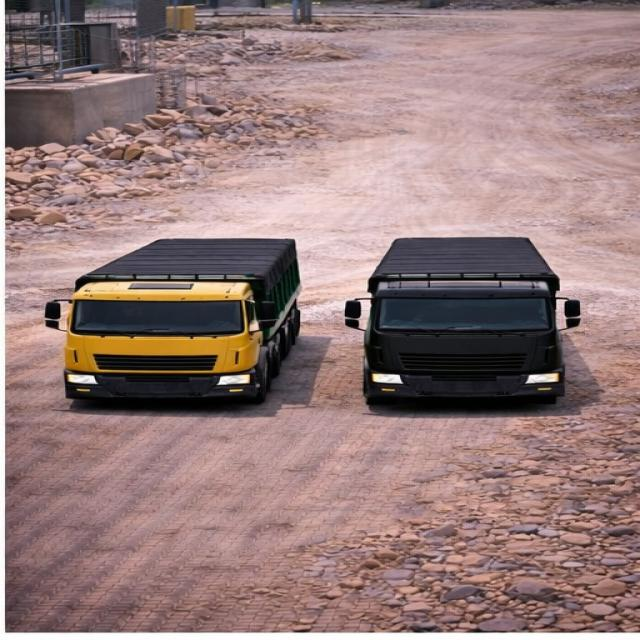Box: (70, 237, 300, 285), (368, 235, 562, 278)
Truck: (344, 228, 612, 408), (47, 226, 327, 397)
